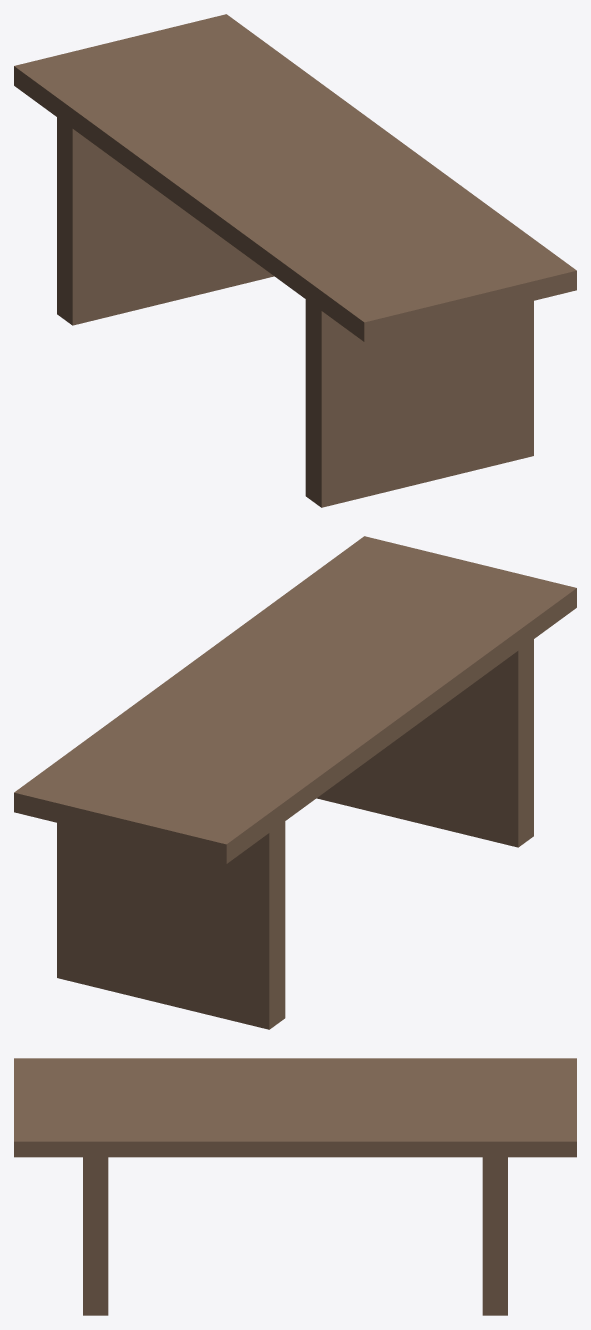
The model's file is Wooden bench.fbx.
The picture shows the model from 3 angles, top to bottom: view 1: azimuth 30°, elevation 25°; view 2: azimuth 150°, elevation 25°; view 3: azimuth 270°, elevation 25°; orthographic projection. The views are drawn at different scales.
Parts seen in each view (by area): view 1: Plane.013; view 2: Plane.013; view 3: Plane.013.
Part boxes in pixels (<box>): Plane.013: <box>14,14,576,507</box>; Plane.013: <box>14,536,576,1029</box>; Plane.013: <box>14,1058,576,1315</box>.
Bounding box in the file's own units: 52.38 × 51.04 × 150.
